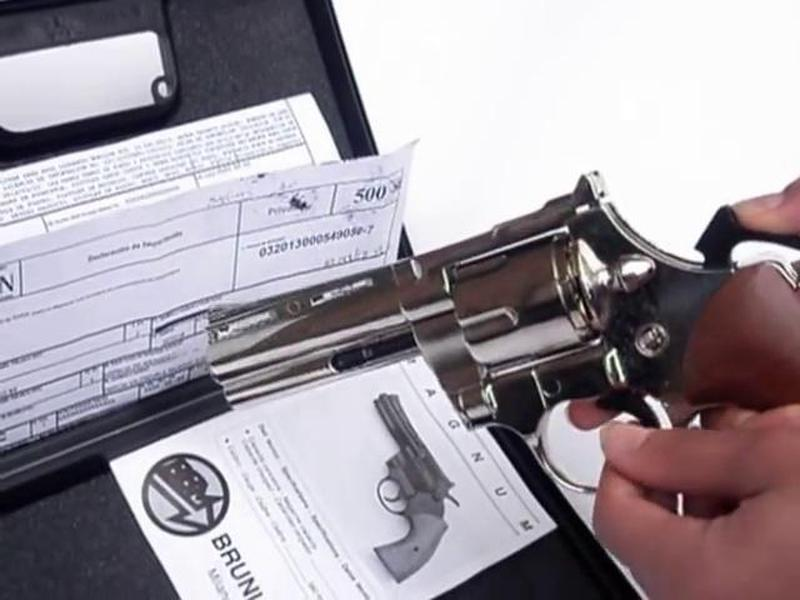Revolver: (183, 144, 800, 495)
